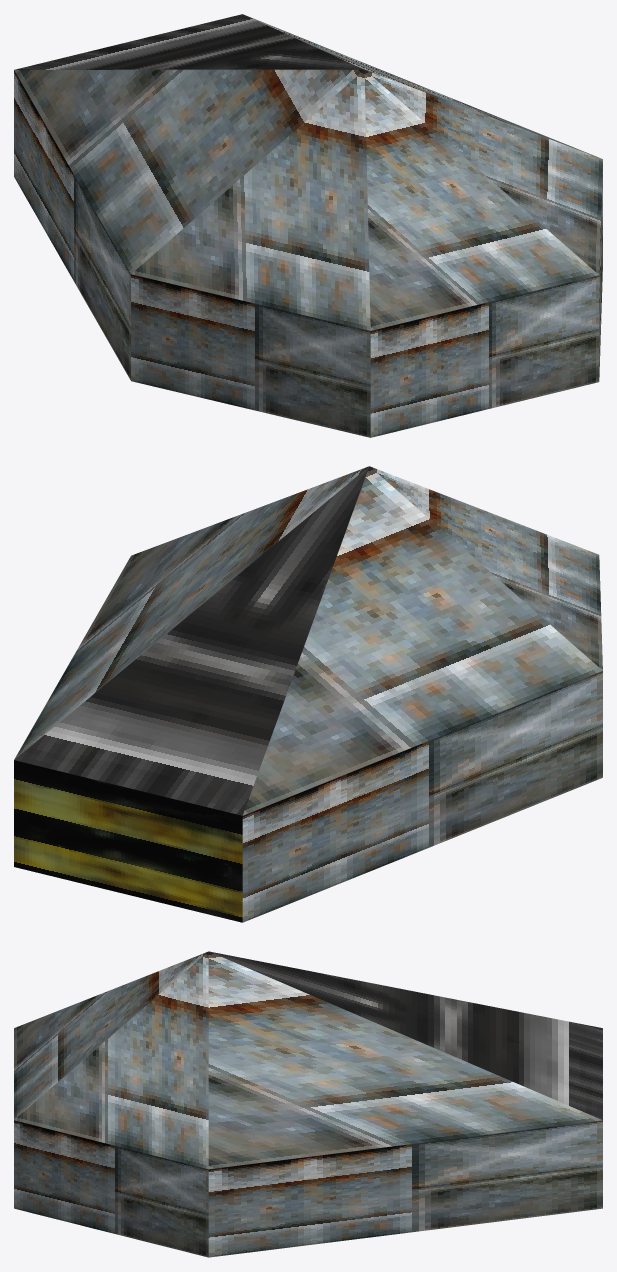
3 views of the same model, one above another, from view 1: azimuth 30°, elevation 25°; view 2: azimuth 150°, elevation 25°; view 3: azimuth 270°, elevation 25° (orthographic). The views are drawn at different scales.
Parts seen in each view (by area): view 1: prim201-bug; view 2: prim201-bug; view 3: prim201-bug.
Boxes of the visible parts, x1=… form: prim201-bug: x1=14, y1=14, x2=602, y2=437; prim201-bug: x1=14, y1=466, x2=602, y2=922; prim201-bug: x1=14, y1=951, x2=602, y2=1257.
Size of the model in its own units: 97 by 62 by 127.
3 materials, 3 textured.
